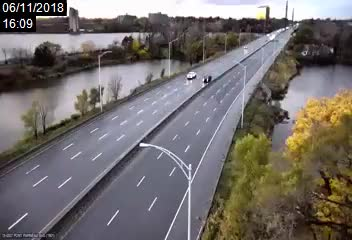personal_car: (185, 70, 197, 80), (202, 73, 212, 83)
